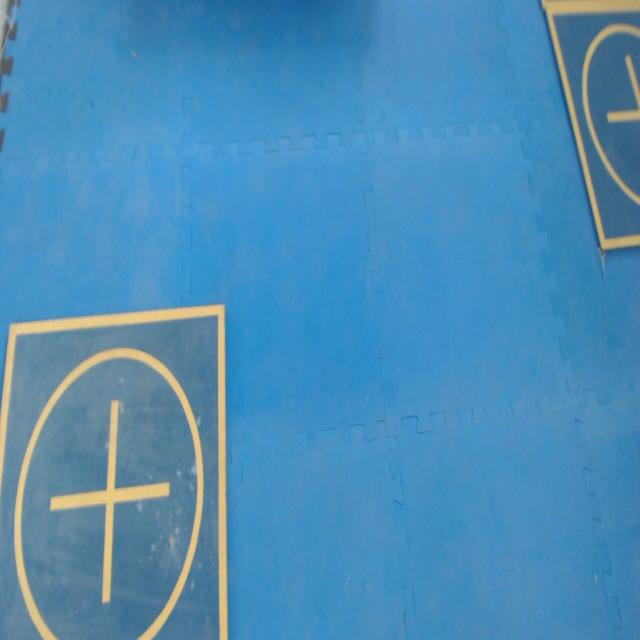base_pouso: (0, 309, 230, 639), (543, 0, 639, 252)
